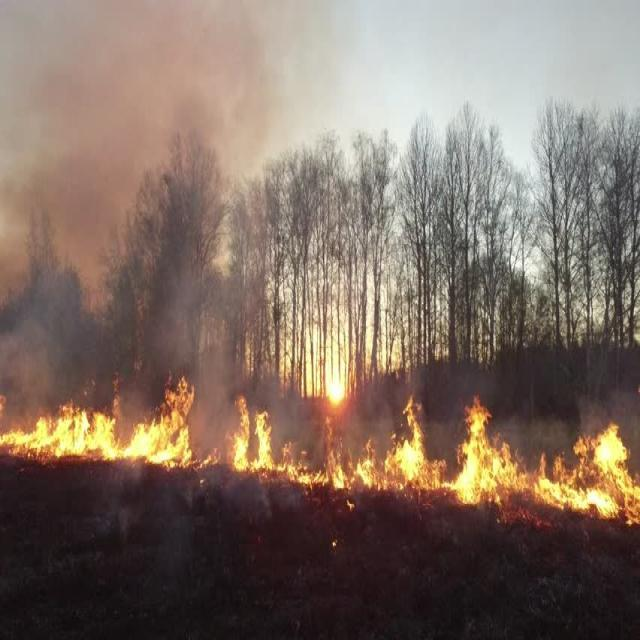Fire: (0, 385, 640, 524)
Smoke: (0, 0, 260, 378)
